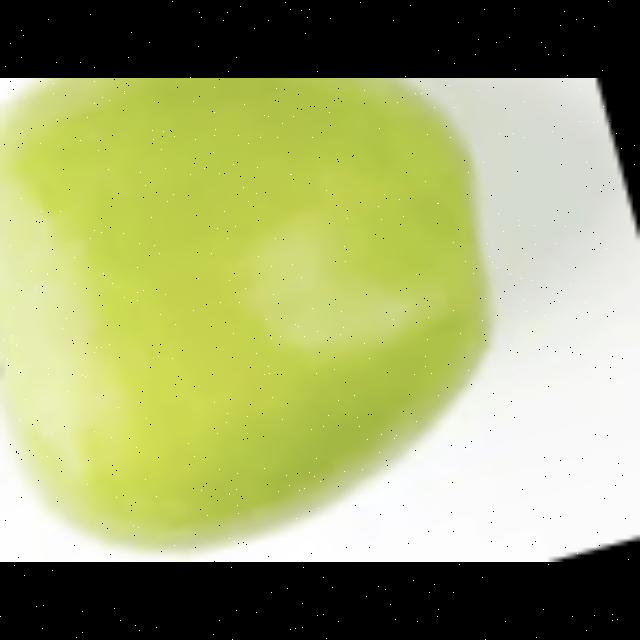Apel Segar: (1, 78, 532, 562)
